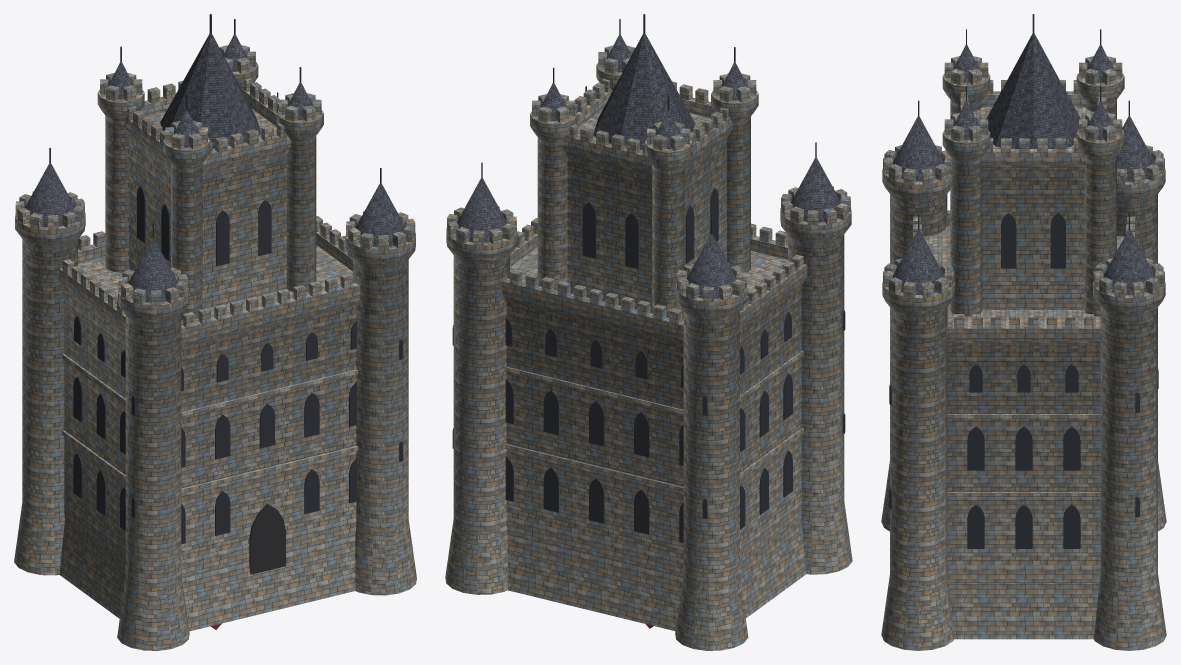
File: castle-kit.glb
3 views of the same model, side by side, from view 1: azimuth 30°, elevation 25°; view 2: azimuth 150°, elevation 25°; view 3: azimuth 270°, elevation 25° (orthographic). The views are drawn at different scales.
Parts seen in each view (by area): view 1: keep; view 2: keep; view 3: keep.
Boxes of the visible parts, x1,y1,x2,y2 form: keep: [14, 14, 416, 650]; keep: [445, 14, 852, 650]; keep: [881, 14, 1166, 650].
Size of the model in its own units: 35.8 by 72 by 29.8.
6 materials, 2 textured.
